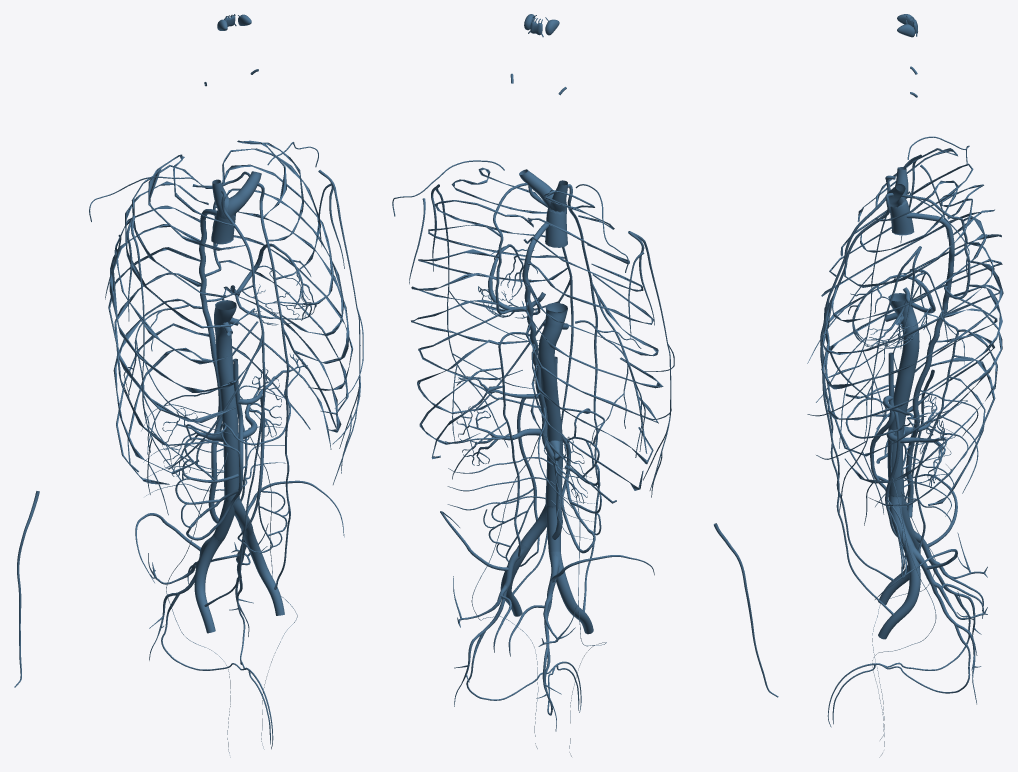
File: venous-trunk-mobile.glb
The picture shows the model from 3 angles, left to right: view 1: azimuth 30°, elevation 25°; view 2: azimuth 150°, elevation 25°; view 3: azimuth 270°, elevation 25°; orthographic projection. The views are drawn at different scales.
Visible parts, largest first — view 1: za.right-superior-intercostal-vein, za.left-superior-intercostal-vein, za.inferior-vena-cava-abdominal-part, za.inferior-vena-cava-thoracic-part, za.lateral-thoracic-vein-r, za.external-iliac-vein-r, za.lateral-thoracic-vein-l, za.azygos-vein, za.external-iliac-vein-l, za.superior-mesenteric-vein, za.left-brachiocephalic-vein, za.right-ascending-lumbar-vein (+1 smaller); view 2: za.right-superior-intercostal-vein, za.left-superior-intercostal-vein, za.inferior-vena-cava-thoracic-part, za.inferior-vena-cava-abdominal-part, za.azygos-vein, za.lateral-thoracic-vein-l, za.right-ascending-lumbar-vein, za.external-iliac-vein-r, za.lateral-thoracic-vein-r, za.superior-vena-cava, za.right-superior-phrenic-vein, za.superior-mesenteric-vein; view 3: za.left-superior-intercostal-vein, za.right-superior-intercostal-vein, za.inferior-vena-cava-abdominal-part, za.inferior-vena-cava-thoracic-part, za.azygos-vein, za.external-iliac-vein-l, za.lateral-thoracic-vein-l, za.lateral-thoracic-vein-r, za.right-ascending-lumbar-vein, za.superior-vena-cava, za.great-cardiac-vein, za.common-iliac-vein-l (+19 smaller).
Part boxes in pixels (x1=…): za.right-superior-intercostal-vein: x1=108, y1=154, x2=262, y2=484; za.left-superior-intercostal-vein: x1=192, y1=140, x2=352, y2=449; za.inferior-vena-cava-abdominal-part: x1=218, y1=378, x2=239, y2=500; za.inferior-vena-cava-thoracic-part: x1=214, y1=300, x2=236, y2=379; za.lateral-thoracic-vein-r: x1=131, y1=215, x2=231, y2=517; za.external-iliac-vein-r: x1=194, y1=534, x2=222, y2=633; za.lateral-thoracic-vein-l: x1=318, y1=170, x2=363, y2=484; za.azygos-vein: x1=199, y1=209, x2=219, y2=390; za.external-iliac-vein-l: x1=241, y1=530, x2=284, y2=615; za.superior-mesenteric-vein: x1=186, y1=402, x2=243, y2=540; za.left-brachiocephalic-vein: x1=217, y1=171, x2=261, y2=219; za.right-ascending-lumbar-vein: x1=208, y1=390, x2=247, y2=523; za.right-superior-intercostal-vein: x1=523, y1=190, x2=663, y2=503; za.left-superior-intercostal-vein: x1=411, y1=167, x2=567, y2=459; za.inferior-vena-cava-thoracic-part: x1=538, y1=303, x2=567, y2=391; za.inferior-vena-cava-abdominal-part: x1=542, y1=387, x2=562, y2=506; za.azygos-vein: x1=522, y1=221, x2=548, y2=409; za.lateral-thoracic-vein-l: x1=436, y1=184, x2=538, y2=453; za.right-ascending-lumbar-vein: x1=515, y1=408, x2=562, y2=539; za.external-iliac-vein-r: x1=549, y1=551, x2=593, y2=634; za.lateral-thoracic-vein-r: x1=628, y1=231, x2=674, y2=497; za.superior-vena-cava: x1=545, y1=210, x2=567, y2=247; za.right-superior-phrenic-vein: x1=575, y1=320, x2=645, y2=457; za.superior-mesenteric-vein: x1=561, y1=434, x2=595, y2=553; za.left-superior-intercostal-vein: x1=821, y1=180, x2=1003, y2=506; za.right-superior-intercostal-vein: x1=821, y1=148, x2=1002, y2=422; za.inferior-vena-cava-abdominal-part: x1=887, y1=374, x2=913, y2=495; za.inferior-vena-cava-thoracic-part: x1=888, y1=293, x2=919, y2=378; za.azygos-vein: x1=906, y1=212, x2=954, y2=392; za.external-iliac-vein-l: x1=878, y1=543, x2=920, y2=639; za.lateral-thoracic-vein-l: x1=807, y1=246, x2=920, y2=525; za.lateral-thoracic-vein-r: x1=807, y1=154, x2=921, y2=448; za.right-ascending-lumbar-vein: x1=901, y1=391, x2=919, y2=517; za.superior-vena-cava: x1=890, y1=201, x2=914, y2=235; za.great-cardiac-vein: x1=848, y1=274, x2=933, y2=343; za.common-iliac-vein-l: x1=888, y1=494, x2=913, y2=547.
Bounding box in the file's own units: 0.4285 × 0.8758 × 0.2131.
